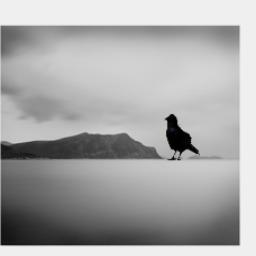Crow: (164, 113, 201, 160)
